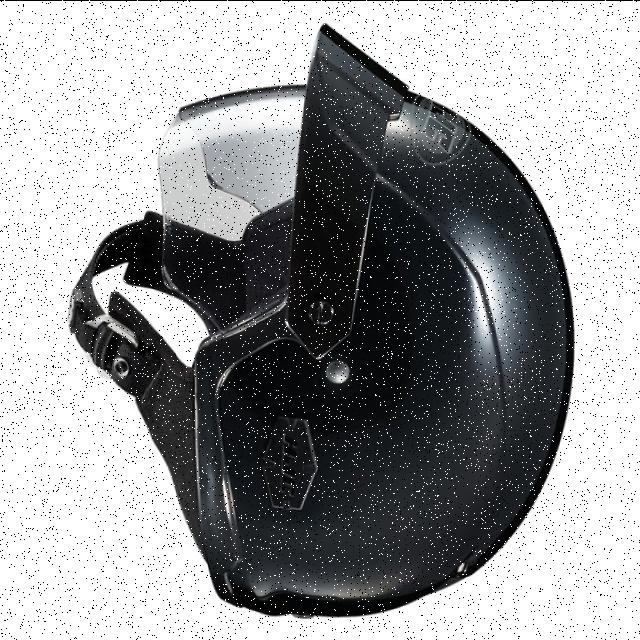Helmet: (71, 25, 572, 614)
